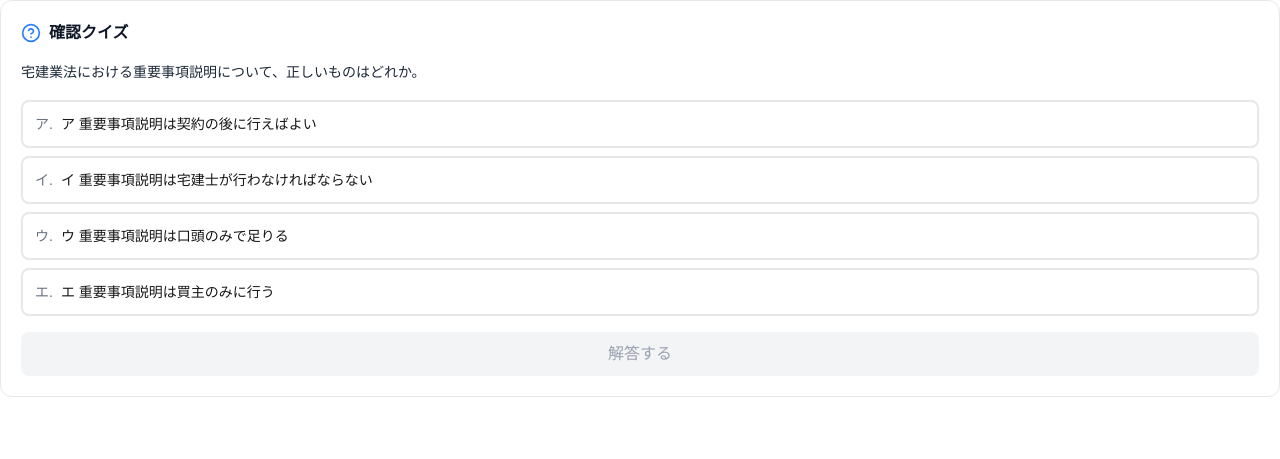
Test: QuizWidget › should show 正解 when correct answer is selected
The width and height of the screenshot is (1280, 459).
Click the button "イ.イ 重要事項説明は宅建士が行わなければならない": (217, 180) left=21, top=156, right=1259, bottom=204
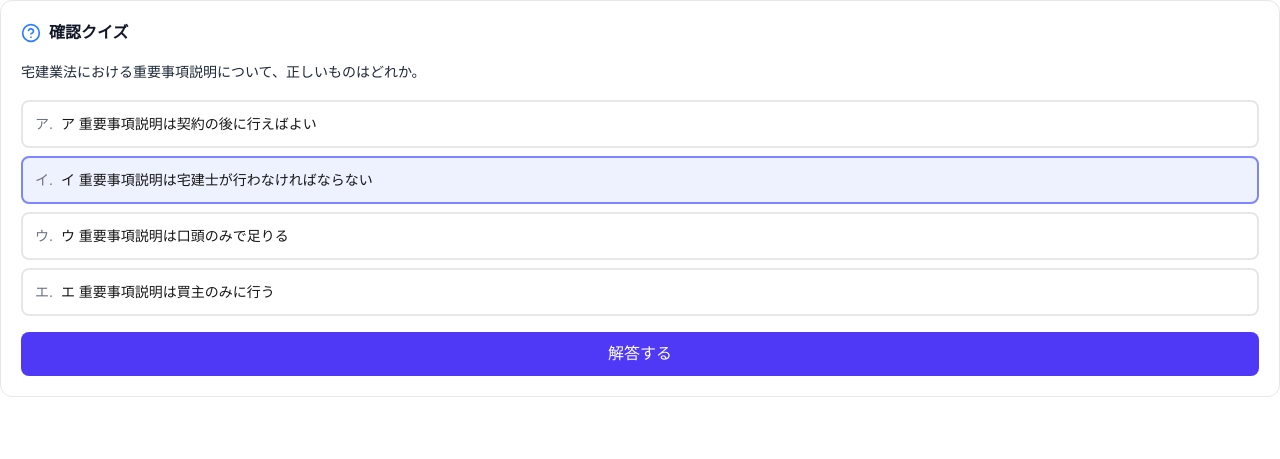
Click the button "解答する": (640, 354) left=21, top=332, right=1259, bottom=376
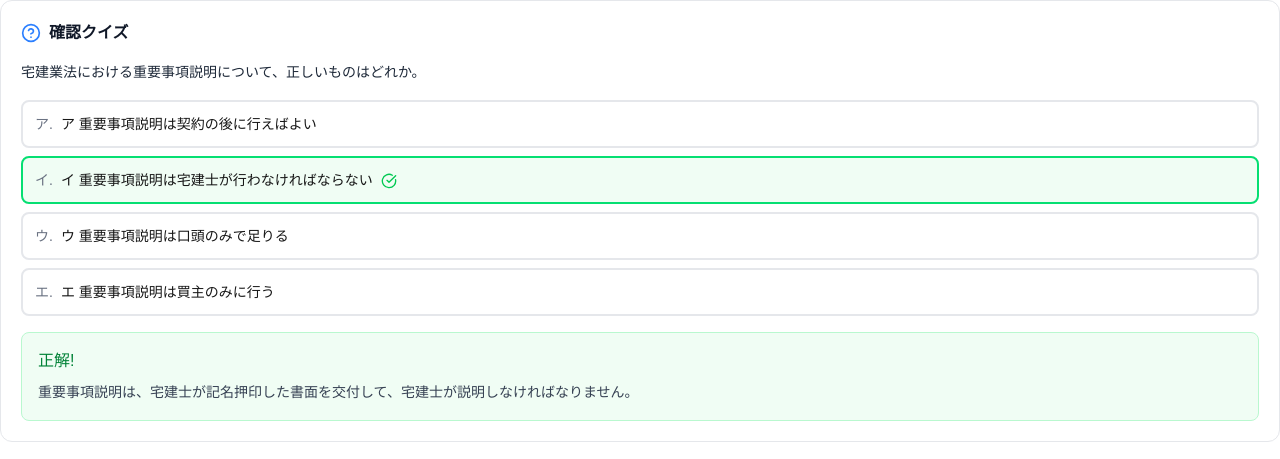
Now the text "正解!" is shown, box left=38, top=352, right=74, bottom=369
Now the text "重要事項説明は、宅建士が記名押印した書面を交付して、宅建士が説明しなければなりません。" is shown, box left=38, top=384, right=638, bottom=400
